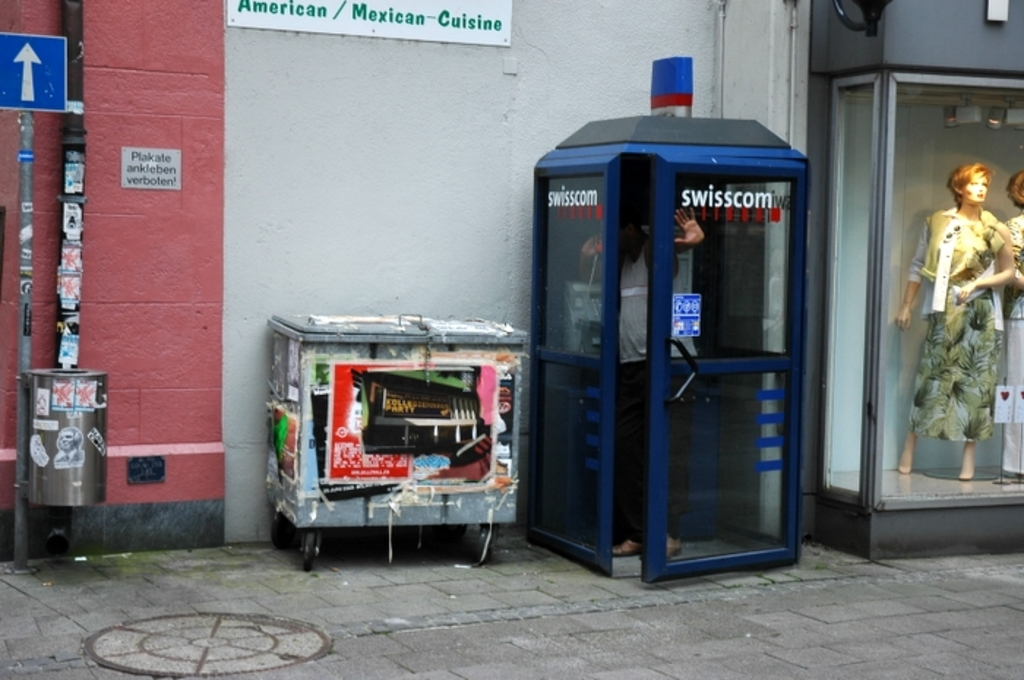Person: (569, 215, 713, 559), (896, 162, 1015, 481)
